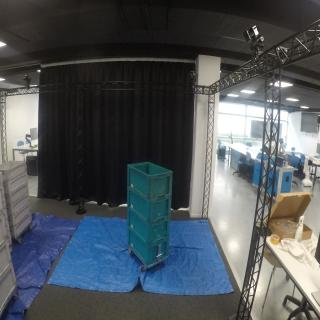BoxB4: (126, 160, 173, 200), (129, 231, 172, 265), (129, 191, 174, 223), (130, 210, 172, 241)
